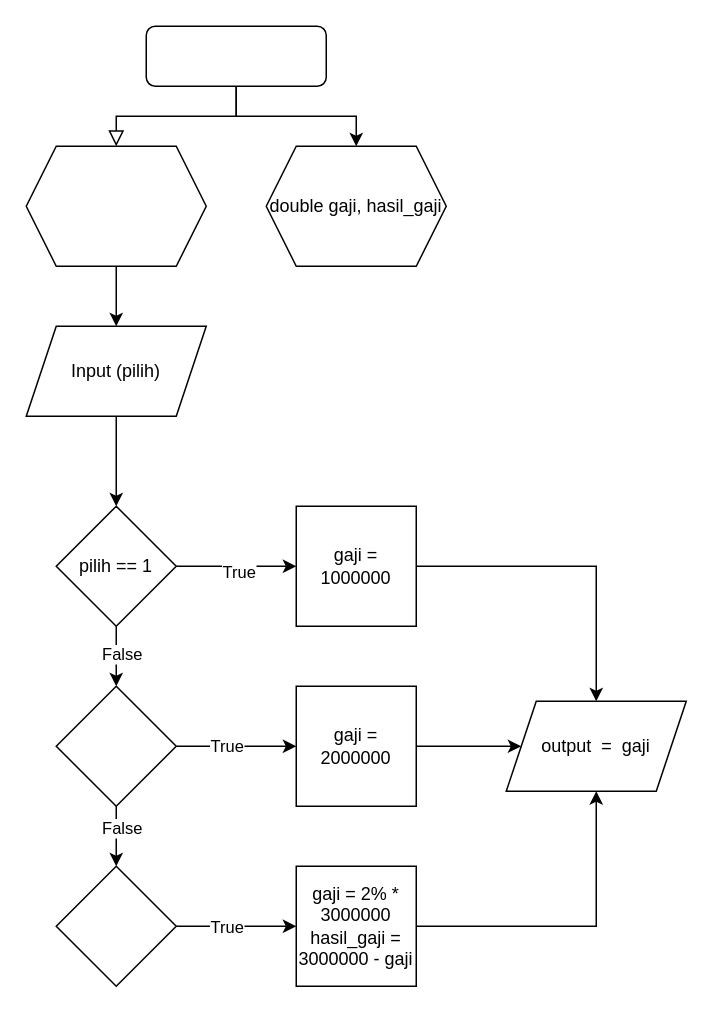
This 713x1013 diagram has some shape labels left out. Each missing label, with the centre of its shape:
"int pilih" belongs at (115,205).
"Mulai" belongs at (235,55).
"pilih == 3" belongs at (115,925).
"pilih==2" belongs at (115,745).
